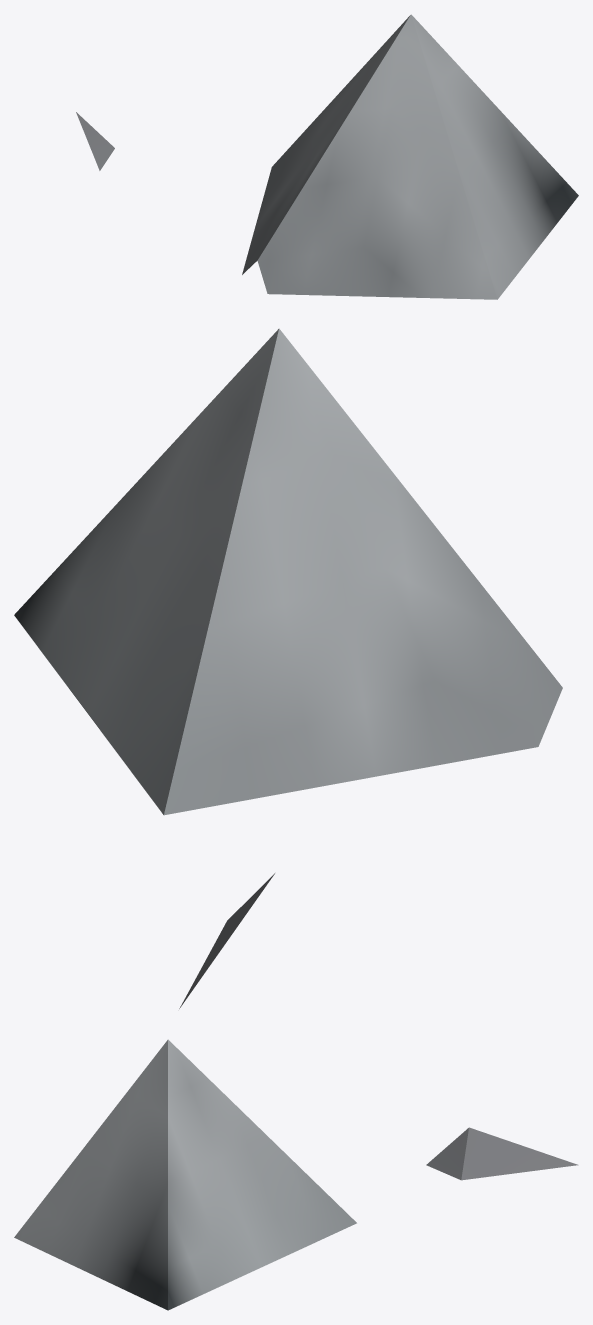
3 renders of one model, top to bottom at view 1: azimuth 30°, elevation 25°; view 2: azimuth 150°, elevation 25°; view 3: azimuth 270°, elevation 25°, orthographic. The views are drawn at different scales.
Size of the model in its own units: 0.0421 by 0.0267 by 0.0691.
1 material, 1 textured.
